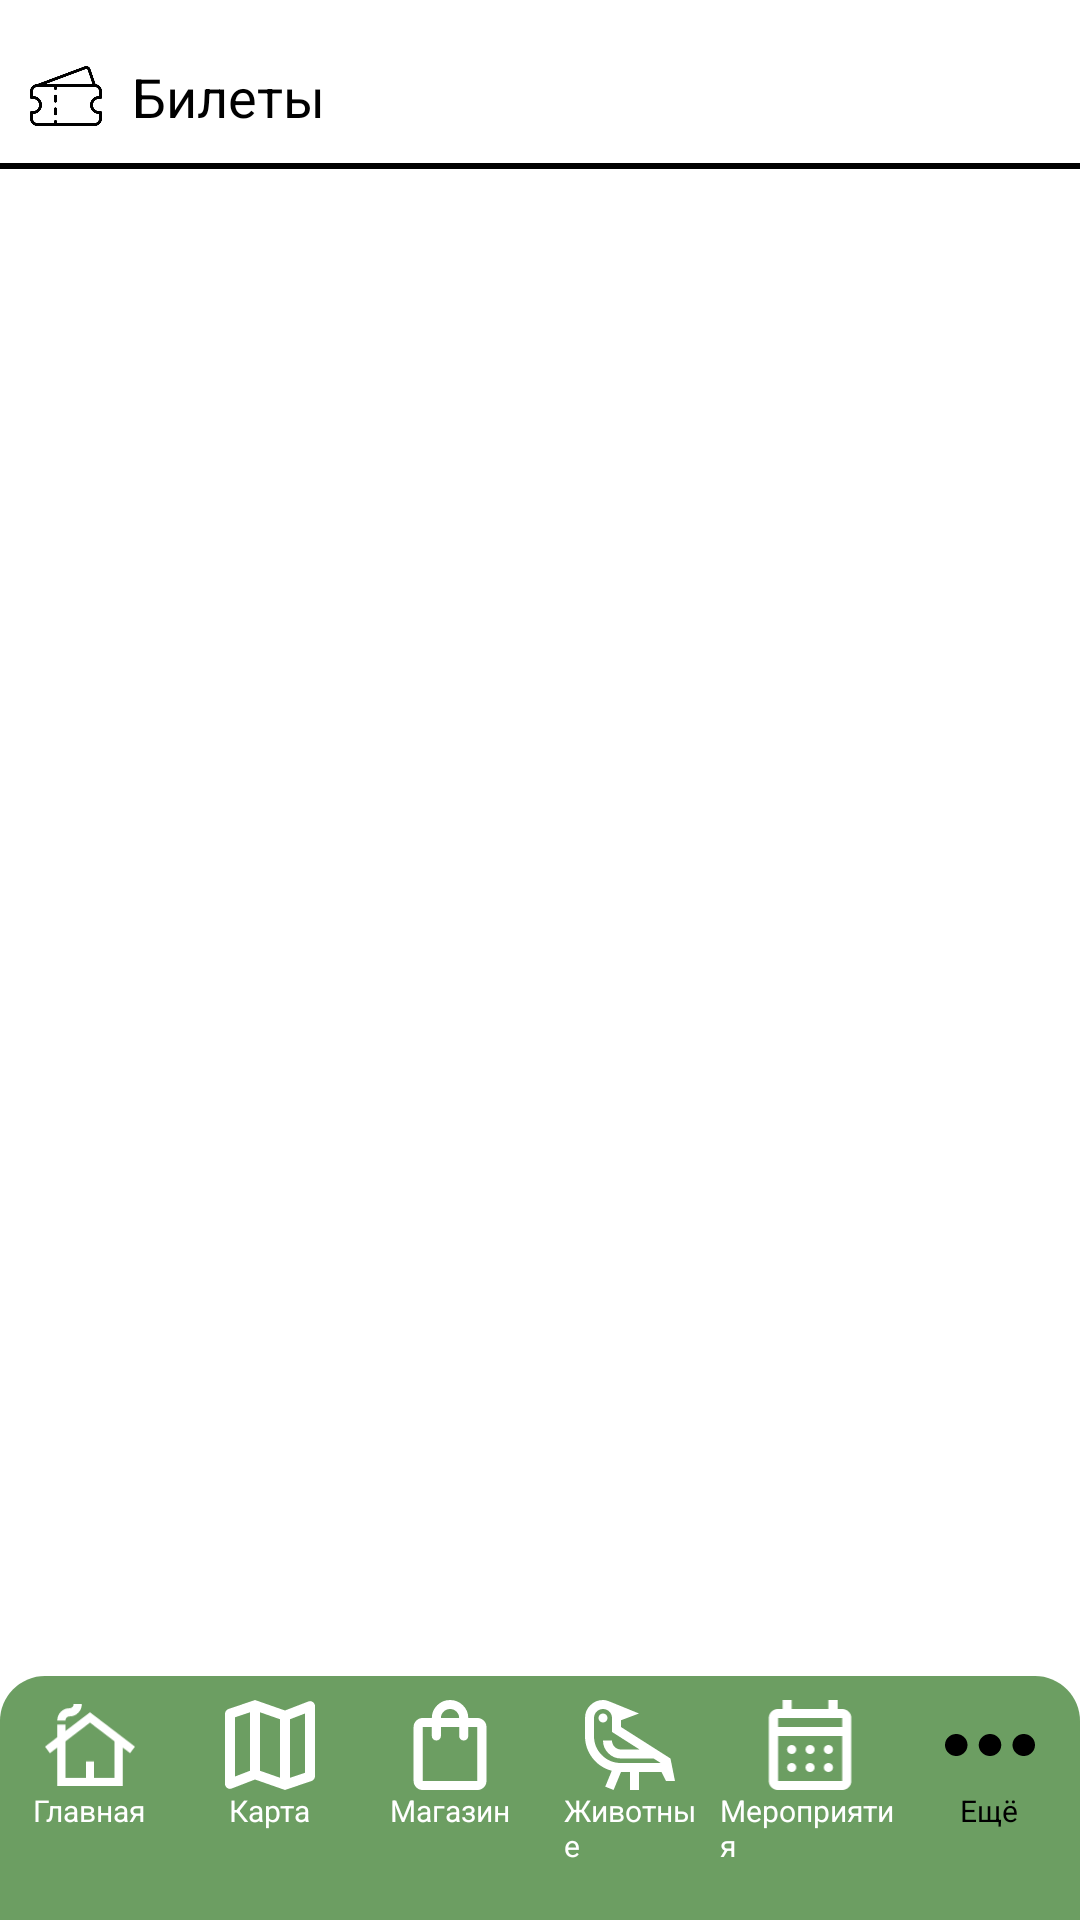

Locate icon controls on the screen. Image size 1080px×1920px, boxes as BBox(x1, y1, x2, y2).
ticket: BBox(30, 66, 102, 126)
